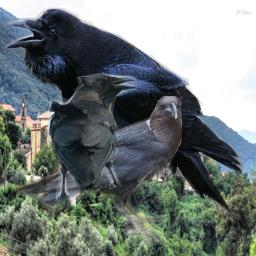Crow: (4, 7, 244, 214), (16, 96, 182, 245), (48, 70, 137, 212)
